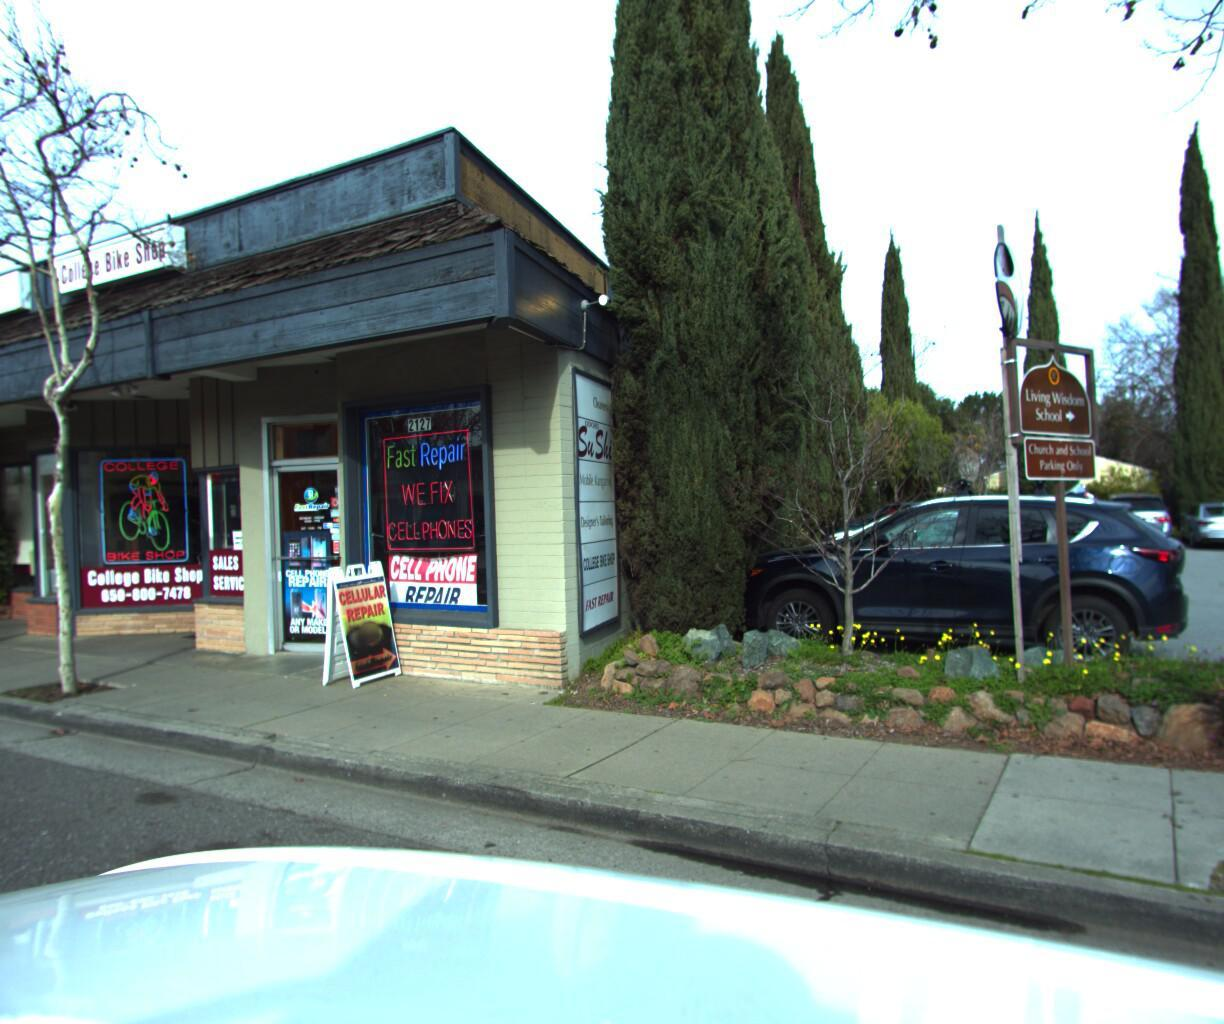car: (698, 457, 1214, 680)
